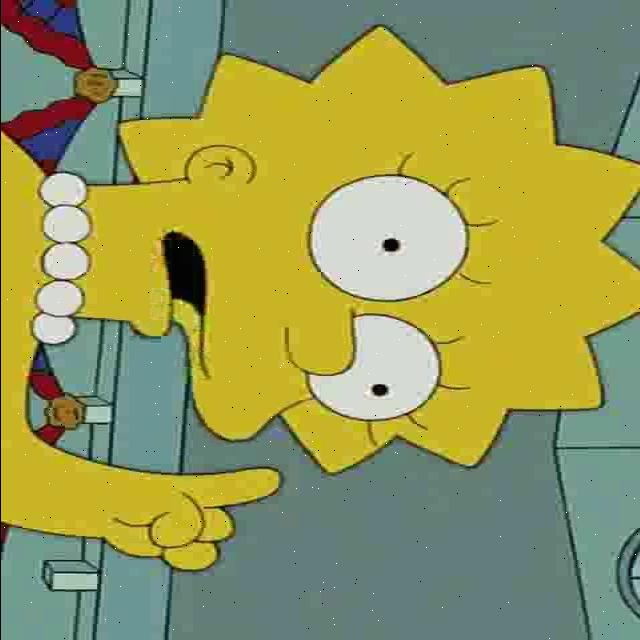Lisa Simpson: (29, 25, 638, 478)
